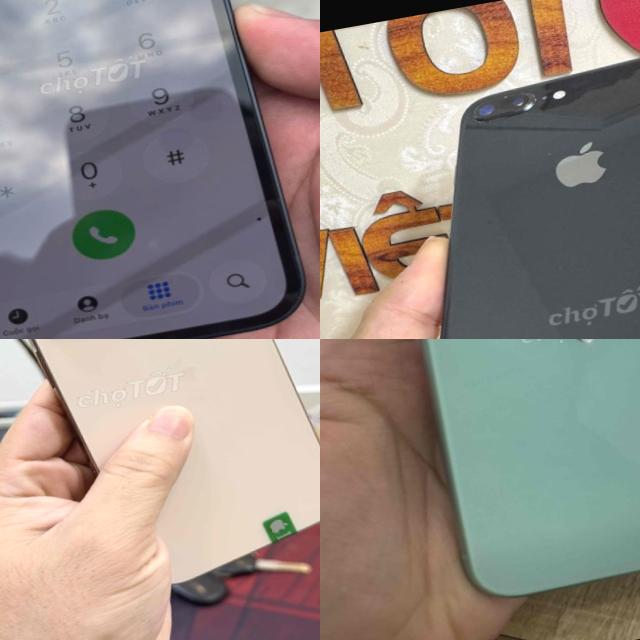gen_11: (354, 339, 640, 616)
gen_12_13: (0, 0, 312, 339)
gen_16: (27, 339, 320, 581)
gen_7_8: (345, 31, 640, 339)
scratch: (453, 69, 611, 126)
